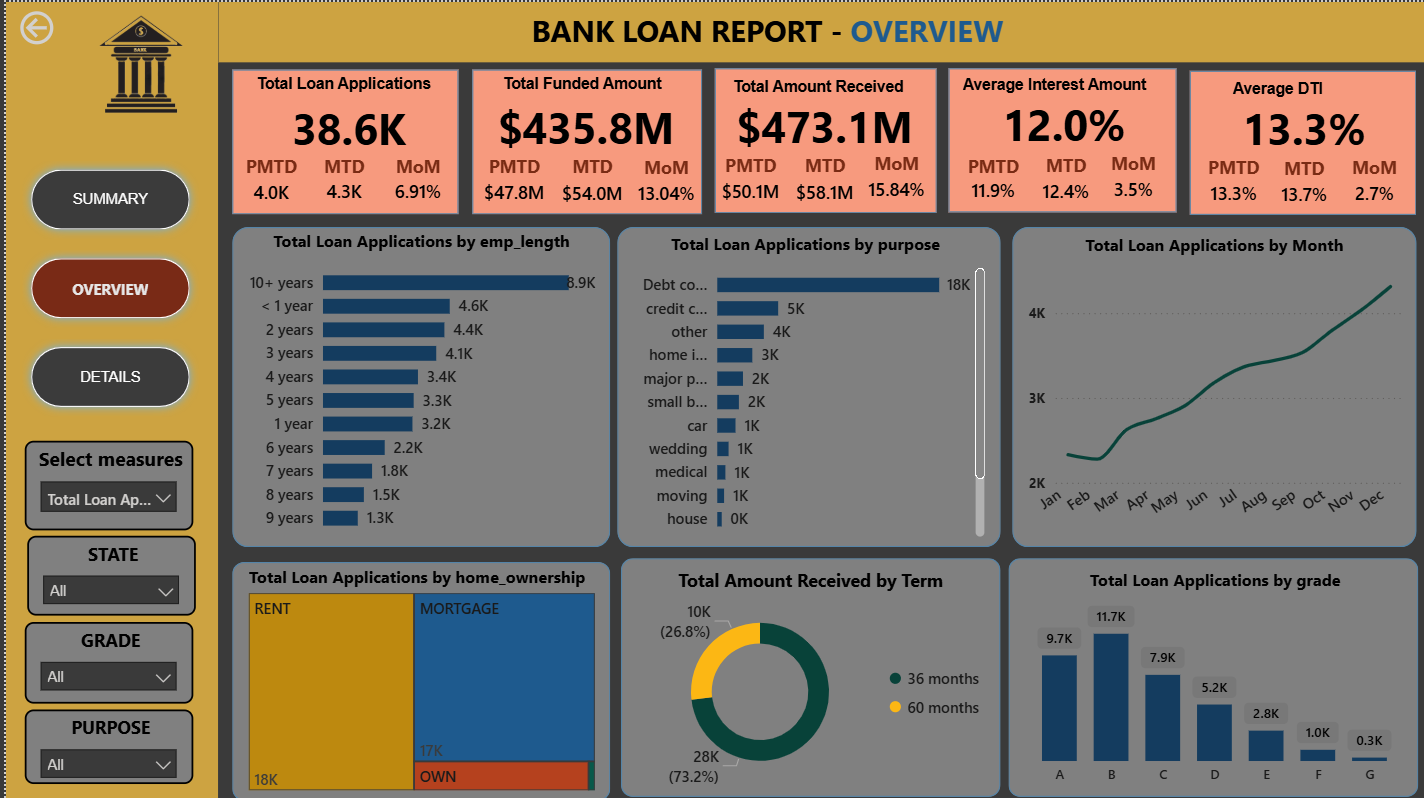

The page's visual inventory and layout, read from the dashboard file:
{"tool":"powerbi","page":{"name":"OVERVIEW","canvas":[1280,720],"ordinal":1},"visuals":[{"type":"shape","box":[191.6,0,1088.5,54.7],"z":0},{"type":"shape","box":[0,0,191.6,720.3],"z":1000},{"type":"textbox","box":[468.8,2.5,448.8,51.2],"z":2000},{"type":"shape","box":[639.5,59.5,200.2,130.6],"z":3000,"group":"g6"},{"type":"shape","box":[850,60,205.7,130],"z":3000,"group":"g11"},{"type":"shape","box":[420.5,60.7,207.3,130.6],"z":3000,"group":"g5"},{"type":"shape","box":[1067.4,60.9,204.3,130.7],"z":3000,"group":"g7"},{"type":"shape","box":[204,61.3,204,130.6],"z":3000,"group":"g4"},{"type":"shape","box":[204,202.8,340.8,288.6],"z":3000,"group":"g2"},{"type":"slicer","title":"STATE","fields":{"Values":["financial_loan.address_state"]},"box":[18.7,481.4,151.8,72.1],"z":3000},{"type":"shape","box":[554.8,501.3,342.1,215.2],"z":3000,"group":"g9"},{"type":"card","fields":{"Values":["financial_loan.Avg Interest Rate"]},"box":[853,86.1,201.6,49.5],"z":4000,"group":"g11"},{"type":"card","fields":{"Values":["financial_loan.Total Amount Received"]},"box":[640.3,86.5,196.1,49.7],"z":4000,"group":"g6"},{"type":"card","fields":{"Values":["financial_loan.Total Loan Applictions"]},"box":[225.1,87.4,168,53.7],"z":4000,"group":"g4"},{"type":"card","fields":{"Values":["financial_loan.Total Funded Amount"]},"box":[421.3,87.7,203.2,49.7],"z":4000,"group":"g5"},{"type":"card","fields":{"Values":["financial_loan.Avg DTI"]},"box":[1071.5,89.2,197.5,48.3],"z":4000,"group":"g7"},{"type":"shape","box":[204,505,340.8,215.2],"z":4000,"group":"g10"},{"type":"slicer","title":"GRADE","fields":{"Values":["financial_loan.grade"]},"box":[17.4,558.5,151.8,73.4],"z":4000},{"type":"textbox","box":[443.1,61.2,164.2,35],"z":5000,"group":"g5"},{"type":"textbox","box":[221.4,61.3,175.4,35.4],"z":5000,"group":"g4"},{"type":"textbox","box":[857.9,62,197.4,32.5],"z":5000,"group":"g11"},{"type":"textbox","box":[650.3,62.3,173.3,32.7],"z":5000,"group":"g6"},{"type":"textbox","box":[1101.7,63.7,109.7,32.7],"z":5000,"group":"g7"},{"type":"slicer","title":"Select measures","fields":{"Values":["Parameter.Parameter"]},"box":[17.4,395.6,151.8,80.9],"z":5000},{"type":"shape","box":[904.1,501.3,369.5,215.2],"z":5000,"group":"g3"},{"type":"card","title":"MTD","fields":{"Values":["financial_loan.MTD Total Amount Received"]},"box":[705.4,134.7,65.8,55.4],"z":6000,"group":"g6"},{"type":"card","title":"MTD","fields":{"Values":["financial_loan.MTD Avg Interest Rate"]},"box":[921.8,135.9,67.7,53.4],"z":6000,"group":"g11"},{"type":"card","title":"MTD","fields":{"Values":["financial_loan.MTD Total Funded Amount"]},"box":[491.4,136.1,74.6,55.2],"z":6000,"group":"g5"},{"type":"card","title":"MTD","fields":{"Values":["financial_loan.MTD Loan Applications"]},"box":[278.3,136.8,53.3,52.3],"z":6000,"group":"g4"},{"type":"card","title":"MTD","fields":{"Values":["financial_loan.MTD Avg DTI"]},"box":[1142.1,138.1,57.6,52.3],"z":6000,"group":"g7"},{"type":"slicer","title":"PURPOSE","fields":{"Values":["financial_loan.purpose"]},"box":[17.4,638.2,151.8,67.2],"z":6000},{"type":"group","id":"g1","title":"Group 2","box":[550.8,202.8,345.8,288.6],"z":7000},{"type":"card","title":"MoM","fields":{"Values":["financial_loan.MoM Avg Interest Rate"]},"box":[983.3,134.3,67.3,53.2],"z":8000,"group":"g11"},{"type":"card","title":"MoM","fields":{"Values":["financial_loan.MoM Total Amount Received"]},"box":[769.7,134.4,66.4,52.3],"z":8000,"group":"g6"},{"type":"card","title":"MoM","fields":{"Values":["financial_loan.MoM Loan Applications"]},"box":[338.4,136.8,66.9,52.3],"z":8000,"group":"g4"},{"type":"card","title":"MoM","fields":{"Values":["financial_loan.MoM Avg DTI"]},"box":[1200.4,136.9,67.2,52.6],"z":8000,"group":"g7"},{"type":"card","title":"MoM","fields":{"Values":["financial_loan.MoM Total Funded Amount"]},"box":[561.1,137.5,68.4,52.5],"z":8000,"group":"g5"},{"type":"group","id":"g2","title":"Group 3","box":[204,202.8,340.8,288.6],"z":8000},{"type":"donutChart","title":"Total Amount Received by Term","fields":{"Y":["financial_loan.Total Loan Applications"],"Category":["financial_loan.term"]},"box":[559.8,508.8,333,203.9],"z":8000,"group":"g9"},{"type":"card","title":"PMTD","fields":{"Values":["financial_loan.PMTD Total Amount Received"]},"box":[638.2,135.4,67.2,53.5],"z":9000,"group":"g6"},{"type":"card","title":"PMTD","fields":{"Values":["financial_loan.PMTD Total Funded Amount"]},"box":[420.5,136.1,75.9,53.9],"z":9000,"group":"g5"},{"type":"card","title":"PMTD","fields":{"Values":["financial_loan.PMTD Loan Applications"]},"box":[204.6,136.8,68.3,53.7],"z":9000,"group":"g4"},{"type":"card","title":"PMTD","fields":{"Values":["financial_loan.PMTD Avg DTI"]},"box":[1072.6,136.9,68.1,53.5],"z":9000,"group":"g7"},{"type":"group","id":"g3","title":"Group 4","box":[904.1,501.3,369.5,215.2],"z":9000},{"type":"treemap","fields":{"Values":["financial_loan.Total Loan Applications"],"Group":["financial_loan.home_ownership"]},"box":[214.2,508.8,321.8,207.6],"z":9000,"group":"g10"},{"type":"image","box":[53.5,0,138.1,112],"z":10000},{"type":"pageNavigator","box":[14.9,143.1,159.2,231.4],"z":11000},{"type":"actionButton","box":[7.5,3.7,42.3,39.8],"z":12000},{"type":"group","id":"g4","title":"Group 1","box":[204,61.3,204,130.6],"z":13000},{"type":"group","id":"g5","title":"Group 1","box":[420.5,60.7,209,129.4],"z":14000},{"type":"shape","box":[550.8,202.8,345.8,288.6],"z":14500,"group":"g1"},{"type":"shape","box":[906.8,202.8,364.5,288.6],"z":14500,"group":"g12"},{"type":"group","id":"g6","title":"Group 1","box":[638.2,59.5,201.5,130.6],"z":15000},{"type":"group","id":"g7","title":"Group 1","box":[1067.4,60.9,202.9,130.7],"z":16000},{"type":"barChart","fields":{"Y":["financial_loan.Total Loan Applications"],"Category":["financial_loan.emp_length"]},"box":[213.2,205.3,323.6,281.1],"z":16000,"group":"g2"},{"type":"group","id":"g8","title":"Group 5","box":[850,60,205.7,130],"z":17000},{"type":"barChart","fields":{"Y":["financial_loan.Total Loan Applications"],"Category":["financial_loan.purpose"]},"box":[554.3,206.9,333,279.9],"z":17000,"group":"g1"},{"type":"group","id":"g9","title":"Group 6","box":[554.8,501.3,342.1,215.2],"z":18000},{"type":"columnChart","fields":{"Y":["financial_loan.Total Loan Applications"],"Category":["financial_loan.grade"]},"box":[910.3,510,359.5,204],"z":18000,"group":"g3"},{"type":"group","id":"g10","title":"Group 7","box":[204,505,340.8,215.2],"z":19000},{"type":"group","id":"g11","title":"Group 1","box":[850,60,205.7,130],"z":20000,"group":"g8"},{"type":"group","id":"g12","title":"Group 8","box":[906.8,202.8,364.5,288.6],"z":20000},{"type":"card","title":"PMTD","fields":{"Values":["financial_loan.PMTD Avg Interest Rate"]},"box":[856.3,137,67.3,48.3],"z":21001,"group":"g8"},{"type":"lineChart","fields":{"Y":["financial_loan.Total Loan Applications"],"Category":["Calendar.Month"]},"box":[914.5,208.8,349,274.2],"z":21005,"group":"g12"}]}

Visuals, with their boxes in screenshot pixels (x1, y1, x2, y2), scaled from the page's 1280x720 canvas onto the 1424x798 screenshot:
shape: <bbox>213, 0, 1423, 61</bbox>
shape: <bbox>0, 0, 213, 797</bbox>
textbox: <bbox>522, 3, 1021, 60</bbox>
shape: <bbox>711, 66, 934, 211</bbox>
shape: <bbox>946, 66, 1174, 211</bbox>
shape: <bbox>468, 67, 698, 212</bbox>
shape: <bbox>1187, 67, 1415, 212</bbox>
shape: <bbox>227, 68, 454, 213</bbox>
shape: <bbox>227, 225, 606, 545</bbox>
"STATE" slicer: <bbox>21, 534, 190, 613</bbox>
shape: <bbox>617, 556, 998, 794</bbox>
card - financial_loan.Avg Interest Rate: <bbox>949, 95, 1173, 150</bbox>
card - financial_loan.Total Amount Received: <bbox>712, 96, 930, 151</bbox>
card - financial_loan.Total Loan Applictions: <bbox>250, 97, 437, 156</bbox>
card - financial_loan.Total Funded Amount: <bbox>469, 97, 695, 152</bbox>
card - financial_loan.Avg DTI: <bbox>1192, 99, 1412, 152</bbox>
shape: <bbox>227, 560, 606, 797</bbox>
"GRADE" slicer: <bbox>19, 619, 188, 700</bbox>
textbox: <bbox>493, 68, 676, 107</bbox>
textbox: <bbox>246, 68, 441, 107</bbox>
textbox: <bbox>954, 69, 1174, 105</bbox>
textbox: <bbox>723, 69, 916, 105</bbox>
textbox: <bbox>1226, 71, 1348, 107</bbox>
"Select measures" slicer: <bbox>19, 438, 188, 528</bbox>
shape: <bbox>1006, 556, 1417, 794</bbox>
"MTD" card: <bbox>785, 149, 858, 211</bbox>
"MTD" card: <bbox>1026, 151, 1101, 210</bbox>
"MTD" card: <bbox>547, 151, 630, 212</bbox>
"MTD" card: <bbox>310, 152, 369, 210</bbox>
"MTD" card: <bbox>1271, 153, 1335, 211</bbox>
"PURPOSE" slicer: <bbox>19, 707, 188, 782</bbox>
"Group 2" group: <bbox>613, 225, 997, 545</bbox>
"MoM" card: <bbox>1094, 149, 1169, 208</bbox>
"MoM" card: <bbox>856, 149, 930, 207</bbox>
"MoM" card: <bbox>376, 152, 451, 210</bbox>
"MoM" card: <bbox>1335, 152, 1410, 210</bbox>
"MoM" card: <bbox>624, 152, 700, 211</bbox>
"Group 3" group: <bbox>227, 225, 606, 545</bbox>
"Total Amount Received by Term" donutChart: <bbox>623, 564, 993, 790</bbox>
"PMTD" card: <bbox>710, 150, 785, 209</bbox>
"PMTD" card: <bbox>468, 151, 552, 211</bbox>
"PMTD" card: <bbox>228, 152, 304, 211</bbox>
"PMTD" card: <bbox>1193, 152, 1269, 211</bbox>
"Group 4" group: <bbox>1006, 556, 1417, 794</bbox>
treemap - financial_loan.Total Loan Applications x financial_loan.home_ownership: <bbox>238, 564, 596, 794</bbox>
image: <bbox>60, 0, 213, 124</bbox>
pageNavigator: <bbox>17, 159, 194, 415</bbox>
actionButton: <bbox>8, 4, 55, 48</bbox>
"Group 1" group: <bbox>227, 68, 454, 213</bbox>
"Group 1" group: <bbox>468, 67, 700, 211</bbox>
shape: <bbox>613, 225, 997, 545</bbox>
shape: <bbox>1009, 225, 1414, 545</bbox>
"Group 1" group: <bbox>710, 66, 934, 211</bbox>
"Group 1" group: <bbox>1187, 67, 1413, 212</bbox>
barChart - financial_loan.Total Loan Applications x financial_loan.emp_length: <bbox>237, 228, 597, 539</bbox>
"Group 5" group: <bbox>946, 66, 1174, 211</bbox>
barChart - financial_loan.Total Loan Applications x financial_loan.purpose: <bbox>617, 229, 987, 540</bbox>
"Group 6" group: <bbox>617, 556, 998, 794</bbox>
columnChart - financial_loan.Total Loan Applications x financial_loan.grade: <bbox>1013, 565, 1413, 791</bbox>
"Group 7" group: <bbox>227, 560, 606, 797</bbox>
"Group 1" group: <bbox>946, 66, 1174, 211</bbox>
"Group 8" group: <bbox>1009, 225, 1414, 545</bbox>
"PMTD" card: <bbox>953, 152, 1028, 205</bbox>
lineChart - financial_loan.Total Loan Applications x Calendar.Month: <bbox>1017, 231, 1406, 535</bbox>
